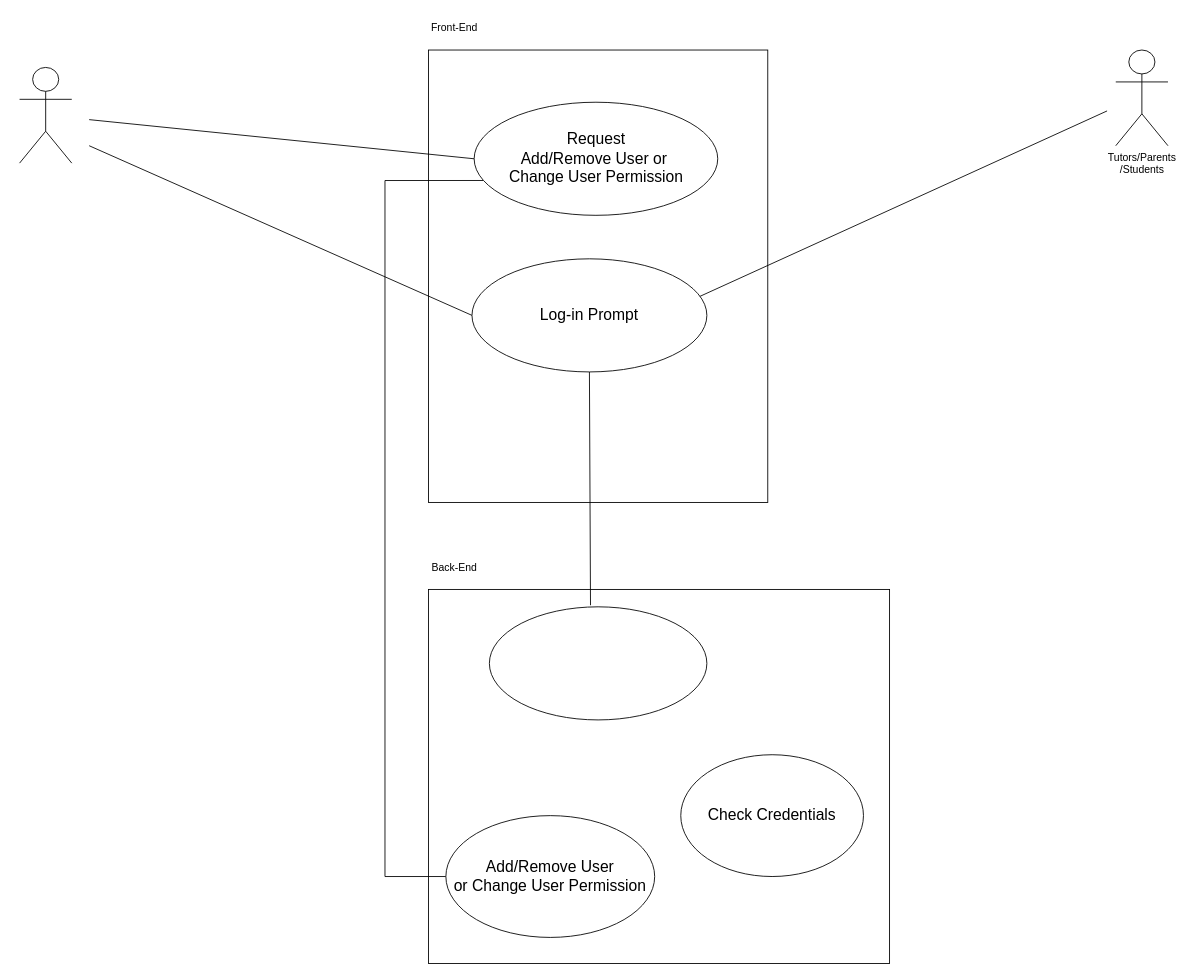
This 1191x979 diagram has some shape labels left out. Each missing label, with the centre of its shape:
"Administrator" goes at (45,115).
"Validate Credentials" goes at (598,663).
